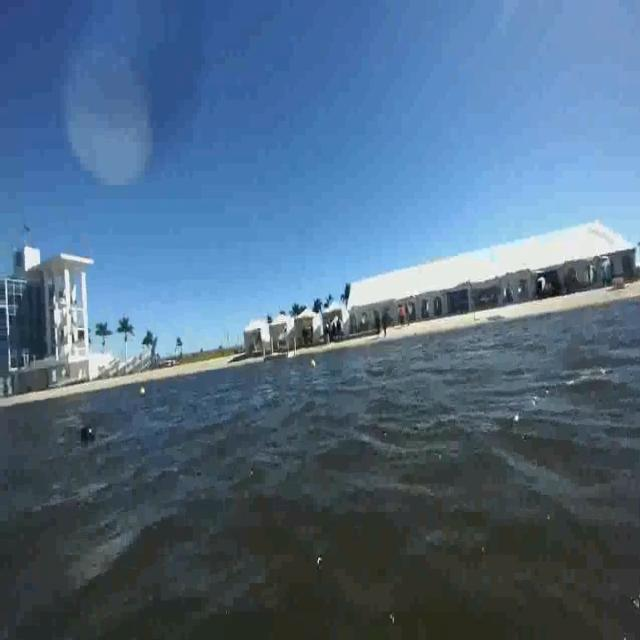black-buoy: (81, 421, 95, 446)
